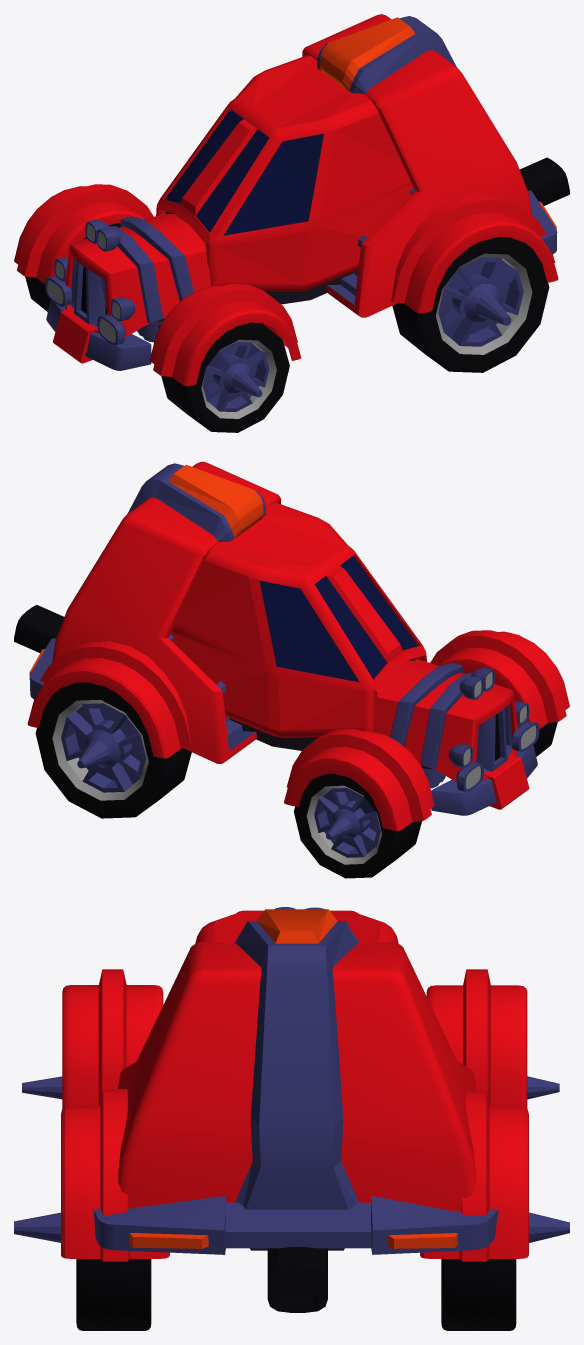
File: Car_4.FBX
3 renders of one model, top to bottom at view 1: azimuth 30°, elevation 25°; view 2: azimuth 150°, elevation 25°; view 3: azimuth 270°, elevation 25°, orthographic. The views are drawn at different scales.
Parts seen in each view (by area): view 1: Box117, Box118, Box116, Weel 3, Weel 1, Cylinder095, Cylinder093, Cylinder094, Tube, Base, Box119, weel 2; view 2: Box117, Box118, Box116, Weel 4, Cylinder094, weel 2, Cylinder096, Cylinder093, Tube, Base, Box119; view 3: Box118, Box119, Cylinder093, Cylinder095, Cylinder094, Cylinder096, Weel 3, Weel 4, Tube, Box117, Weel 1, weel 2.
Boxes of the visible parts, bbox=[...] form: Box117: bbox=[156, 55, 413, 291]; Box118: bbox=[302, 14, 531, 317]; Box116: bbox=[45, 213, 210, 370]; Weel 3: bbox=[392, 237, 549, 372]; Weel 1: bbox=[161, 322, 289, 432]; Cylinder095: bbox=[391, 193, 558, 313]; Cylinder093: bbox=[150, 284, 300, 386]; Cylinder094: bbox=[14, 184, 153, 283]; Tube: bbox=[519, 157, 569, 205]; Base: bbox=[155, 272, 353, 322]; Box119: bbox=[528, 190, 557, 254]; weel 2: bbox=[25, 223, 120, 311]; Box117: bbox=[170, 502, 426, 738]; Box118: bbox=[52, 461, 281, 763]; Box116: bbox=[372, 659, 539, 815]; Weel 4: bbox=[35, 682, 191, 818]; Cylinder094: bbox=[284, 728, 434, 830]; weel 2: bbox=[294, 773, 421, 878]; Cylinder096: bbox=[27, 641, 191, 758]; Cylinder093: bbox=[430, 630, 569, 728]; Tube: bbox=[14, 605, 64, 652]; Base: bbox=[230, 718, 431, 769]; Box119: bbox=[29, 638, 55, 699]; Box118: bbox=[117, 909, 476, 1211]; Box119: bbox=[93, 1196, 498, 1254]; Cylinder093: bbox=[62, 969, 163, 1108]; Cylinder095: bbox=[61, 1089, 169, 1261]; Cylinder094: bbox=[426, 969, 527, 1108]; Cylinder096: bbox=[420, 1090, 528, 1261]; Weel 3: bbox=[14, 1212, 151, 1330]; Weel 4: bbox=[441, 1212, 569, 1330]; Tube: bbox=[267, 1247, 327, 1312]; Box117: bbox=[195, 910, 398, 943]; Weel 1: bbox=[22, 1076, 62, 1099]; weel 2: bbox=[527, 1076, 559, 1099].
Bounding box in the file's own units: 12.8 × 7.23 × 9.31.
